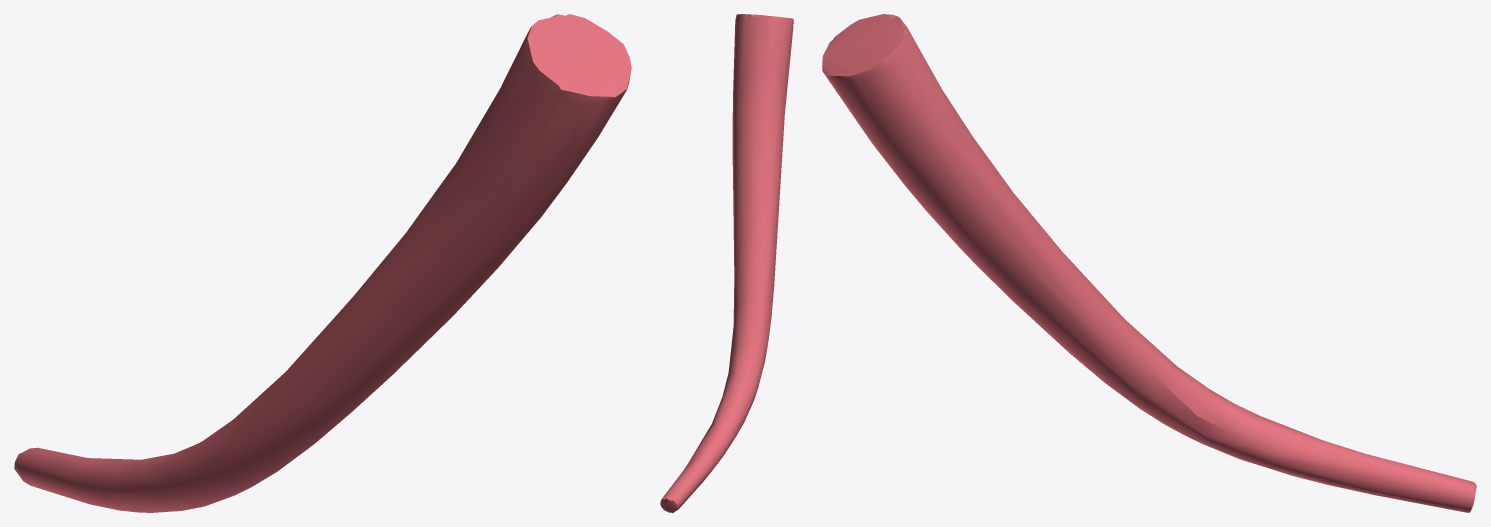
The model's file is fma68140_fj5989.glb.
3 renders of one model, left to right at view 1: azimuth 30°, elevation 25°; view 2: azimuth 150°, elevation 25°; view 3: azimuth 270°, elevation 25°, orthographic. The views are drawn at different scales.
Parts seen in each view (by area): view 1: FMA68140_FJ5989; view 2: FMA68140_FJ5989; view 3: FMA68140_FJ5989.
Part boxes in pixels (<box>): FMA68140_FJ5989: <box>14,14,631,512</box>; FMA68140_FJ5989: <box>660,14,793,512</box>; FMA68140_FJ5989: <box>822,14,1476,512</box>.
Bounding box in the file's own units: 0.0149 × 0.0386 × 0.041.
